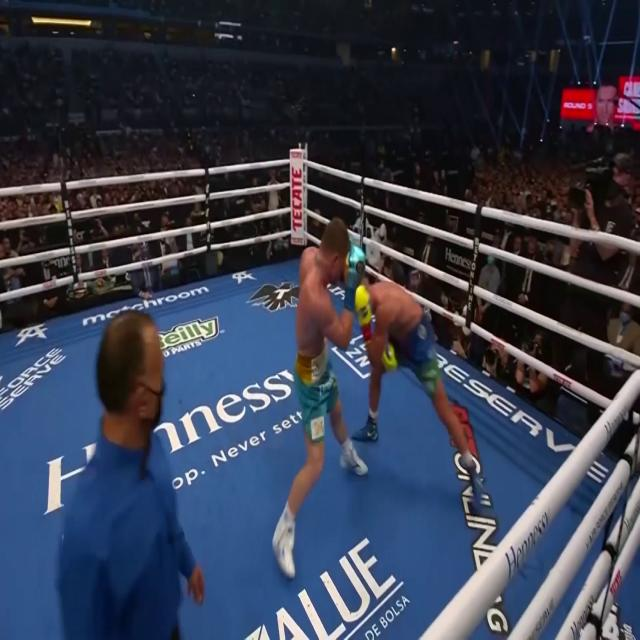boxer_1: (360, 280, 427, 334)
boxer_2: (296, 218, 351, 357)
gloves_1: (355, 283, 373, 342), (382, 342, 398, 370)
gloves_2: (344, 239, 366, 310)
